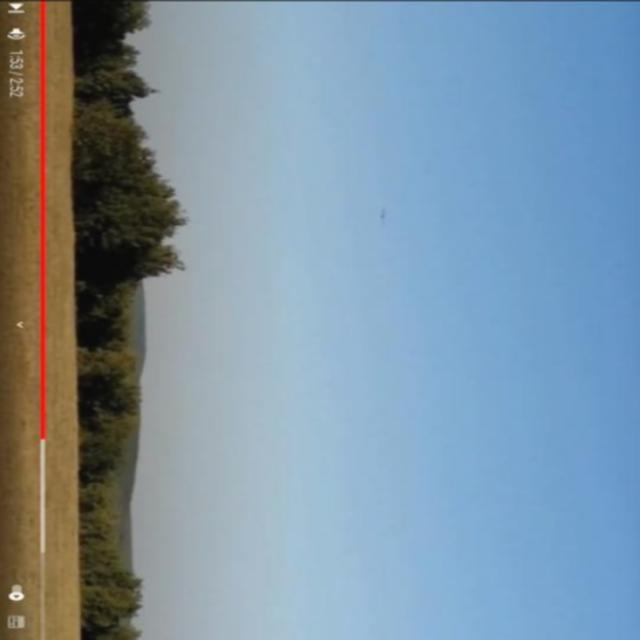plane: (376, 205, 389, 228)
